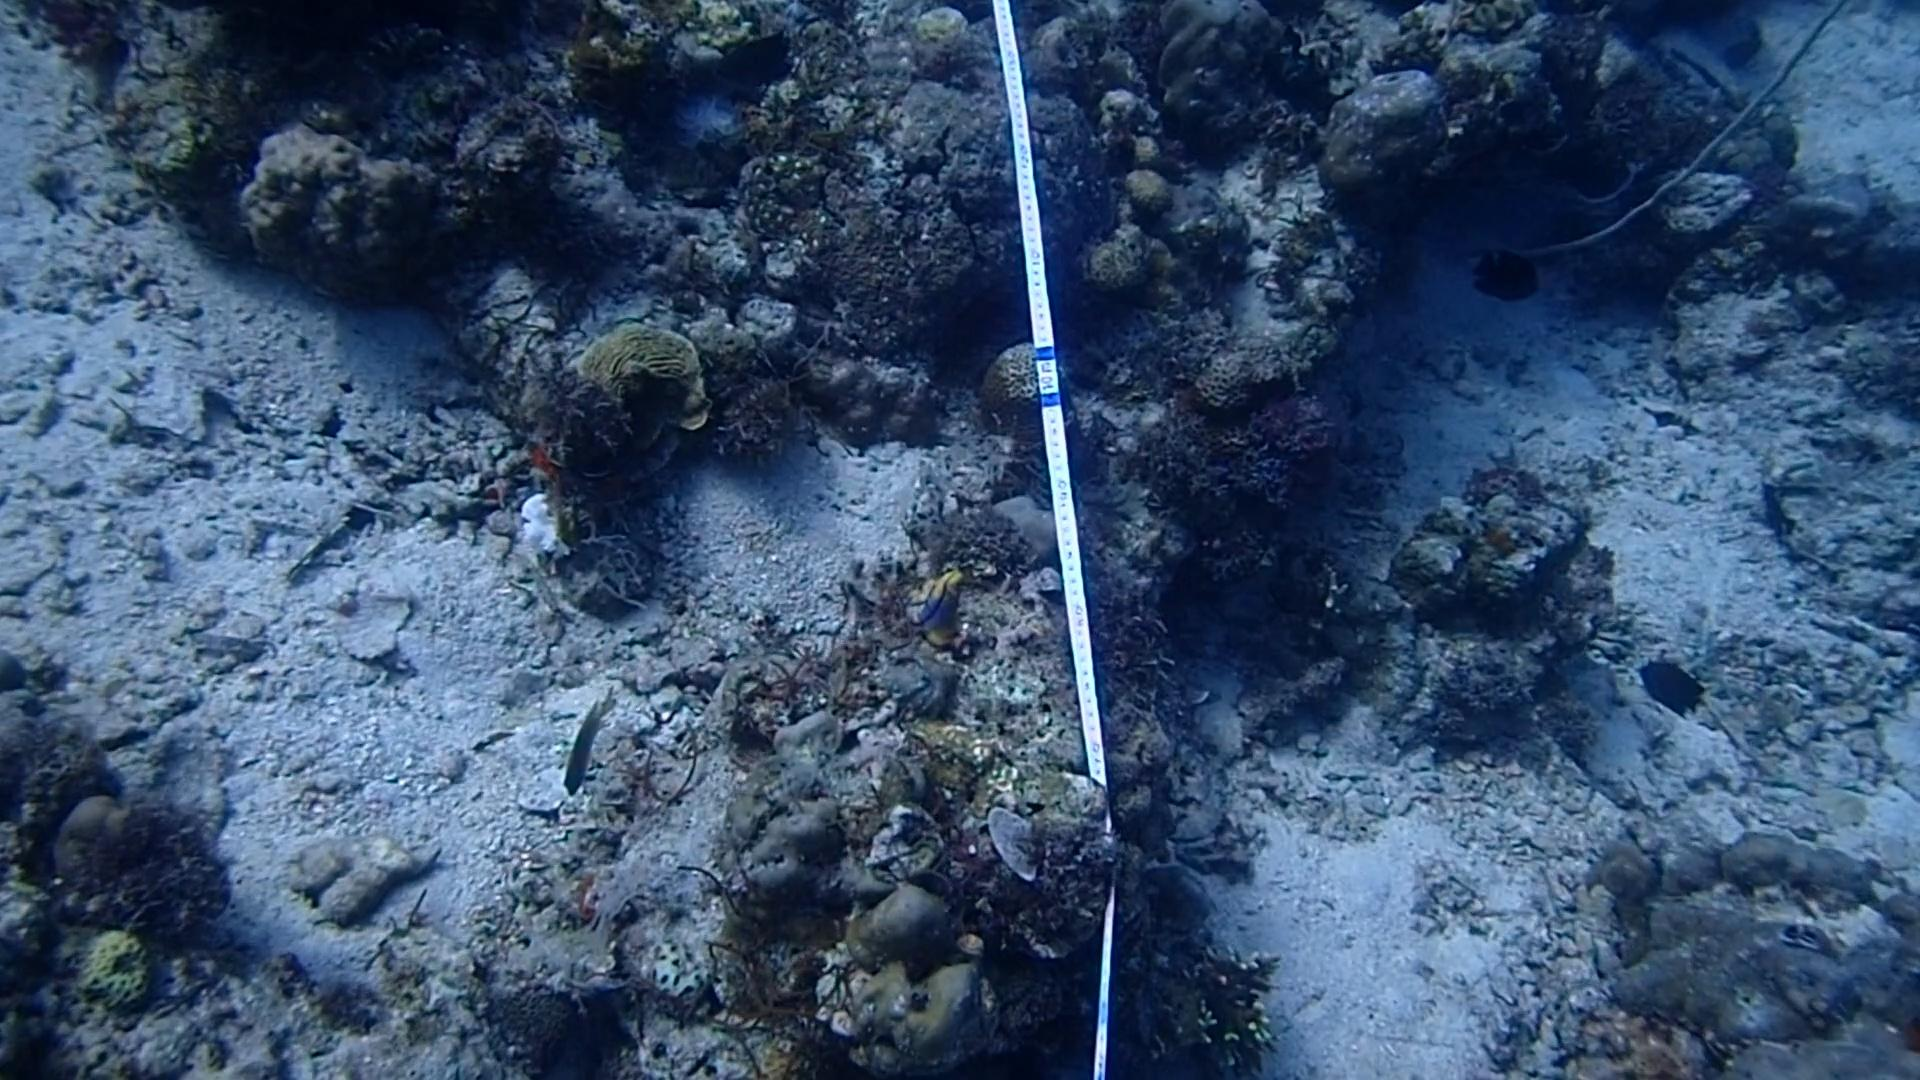Dark Fish: (708, 22, 802, 98), (1461, 237, 1547, 314), (1631, 649, 1716, 724)
Light Fish: (546, 679, 622, 796)
